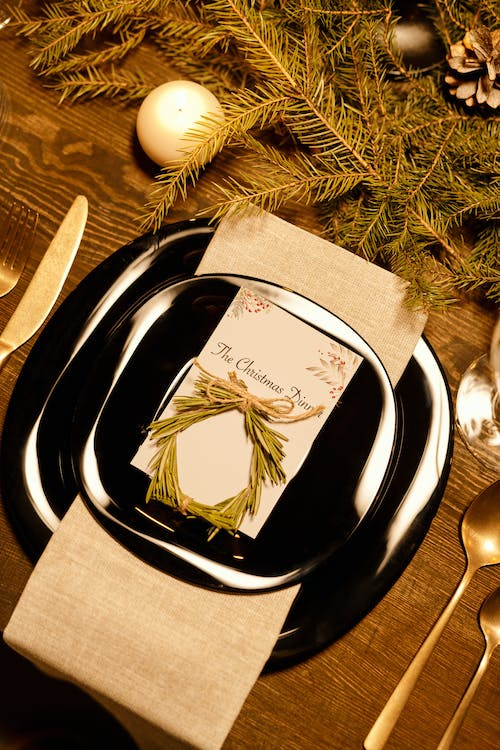knife: (0, 193, 90, 376)
